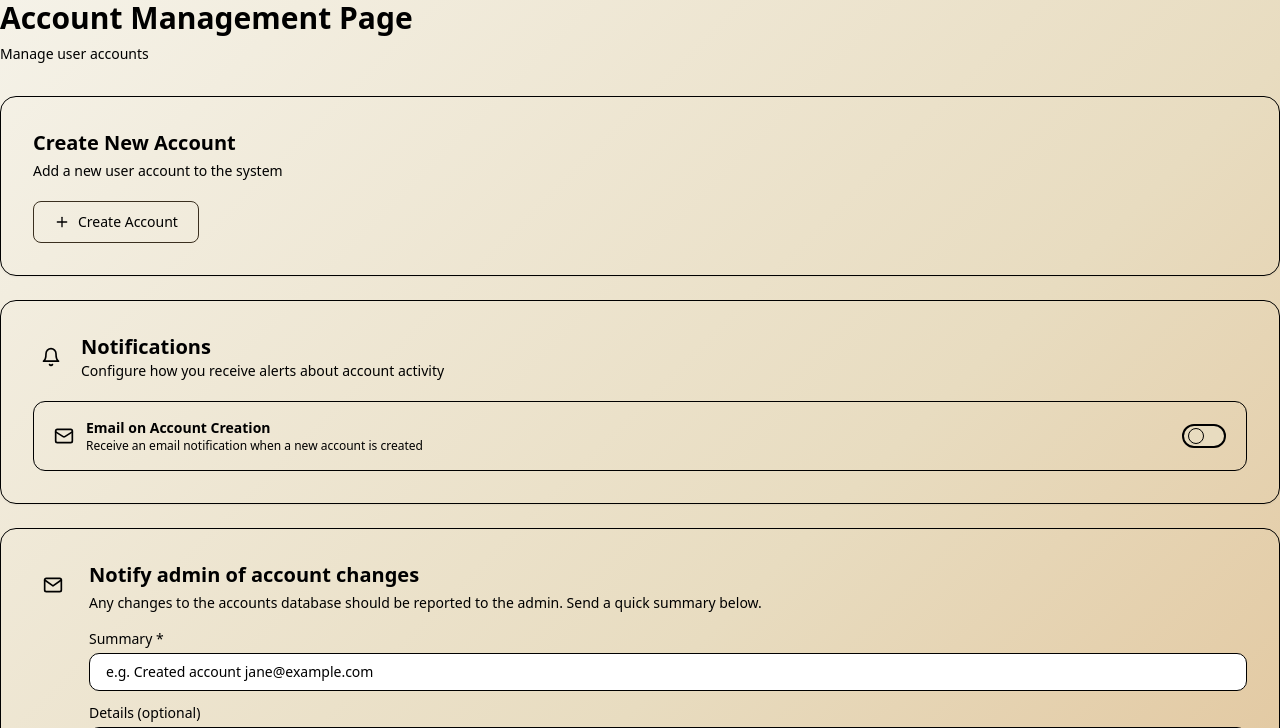
Account creation — AccountManagementPage modal › opens the create account modal when the button is clicked
The width and height of the screenshot is (1280, 728).
Click the button "Create Account": (116, 222) [33,201,199,243]
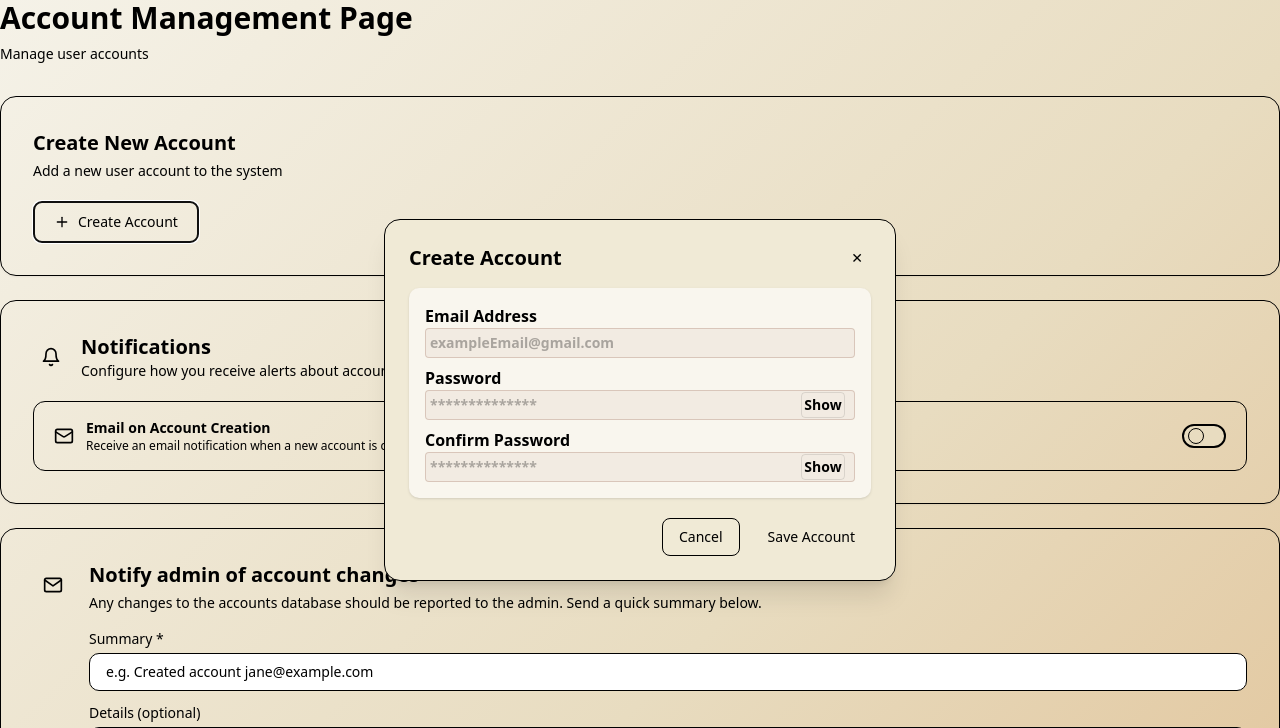
Expected: the dialog is shown, [384,219,896,581]
Expected: the heading "Create Account" is shown, [409,244,562,272]
